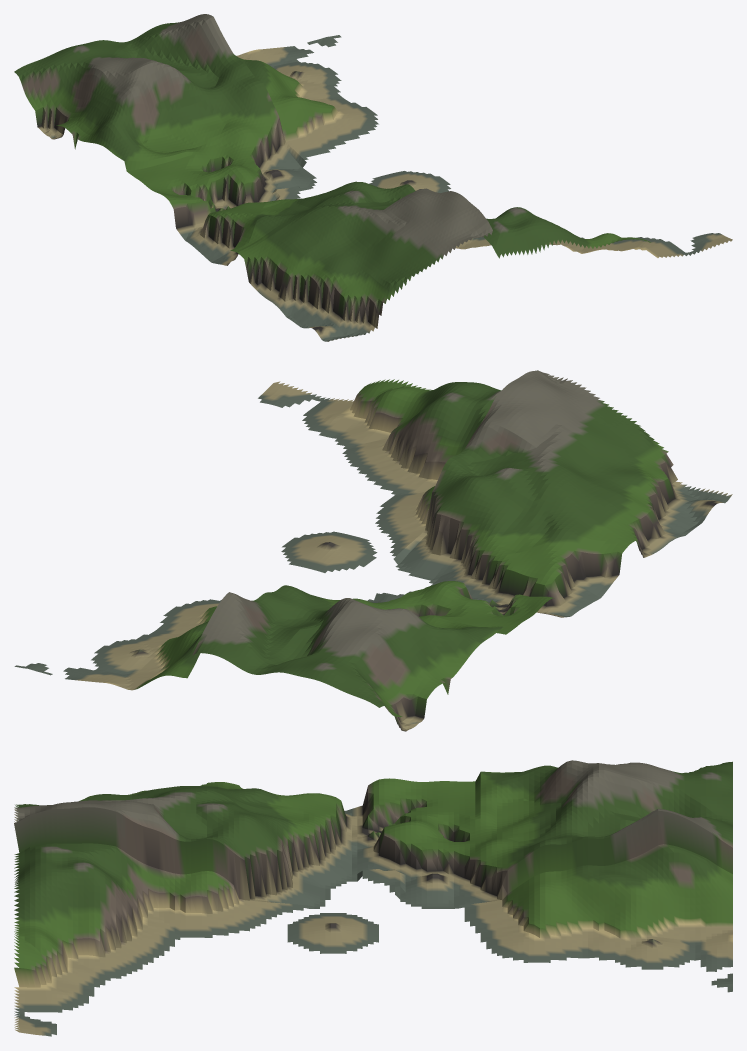
File: coast_tile_x1z1.glb
3 renders of one model, top to bottom at view 1: azimuth 30°, elevation 25°; view 2: azimuth 150°, elevation 25°; view 3: azimuth 270°, elevation 25°, orthographic. The views are drawn at different scales.
Visible parts, largest first — view 1: geometry_0; view 2: geometry_0; view 3: geometry_0.
Part boxes in pixels (x1=…): geometry_0: x1=14, y1=14, x2=732, y2=341; geometry_0: x1=14, y1=370, x2=732, y2=731; geometry_0: x1=14, y1=760, x2=732, y2=1036.
Bounding box in the file's own units: 600 × 126 × 804.
